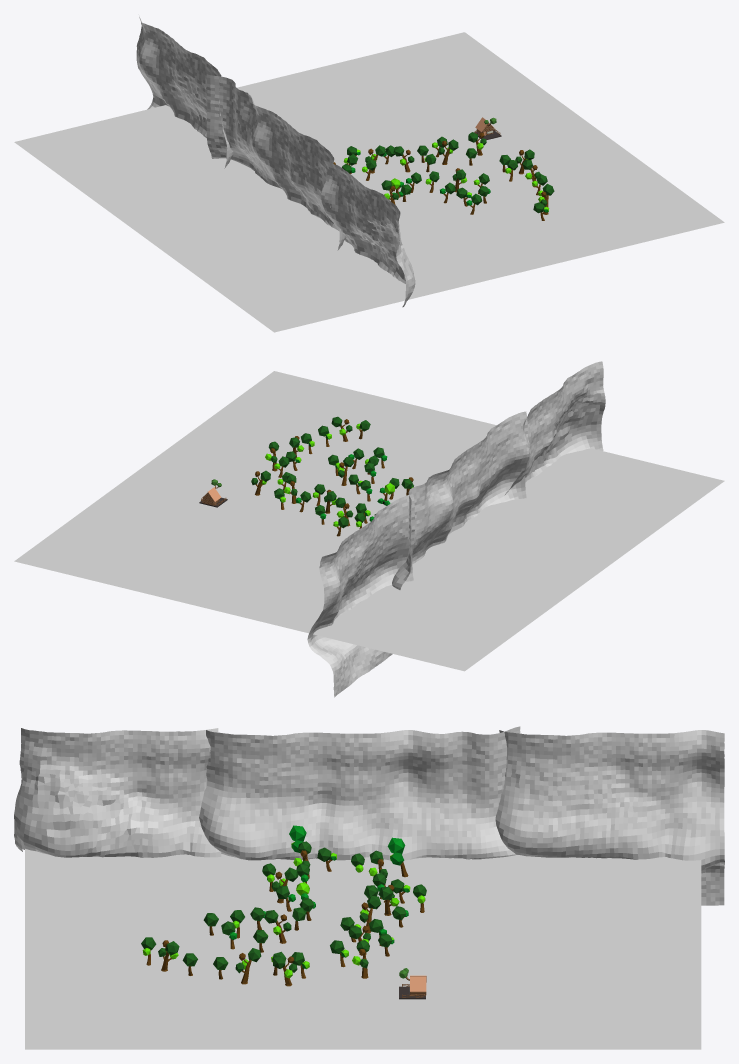
Rendered from LOKO (1).fbx.
3 renders of one model, top to bottom at view 1: azimuth 30°, elevation 25°; view 2: azimuth 150°, elevation 25°; view 3: azimuth 270°, elevation 25°, orthographic. The views are drawn at different scales.
Parts seen in each view (by area): view 1: Grid, Grid.001, Grid.002, Grid.003; view 2: Grid, Grid.003, Grid.001, Grid.002; view 3: Grid, Grid.001, Grid.003, Grid.002.
Part boxes in pixels (box(x1,y1,x2,y2)): Grid: box(14, 32, 724, 332); Grid.001: box(206, 74, 346, 250); Grid.002: box(321, 160, 415, 307); Grid.003: box(136, 16, 233, 168); Grid: box(14, 371, 724, 671); Grid.003: box(307, 494, 415, 697); Grid.001: box(392, 411, 530, 589); Grid.002: box(505, 361, 605, 494); Grid: box(25, 849, 701, 1049); Grid.001: box(199, 726, 520, 860); Grid.003: box(495, 730, 724, 905); Grid.002: box(14, 728, 221, 857).
Bounding box in the file's own units: 15000 × 4405 × 15765.
